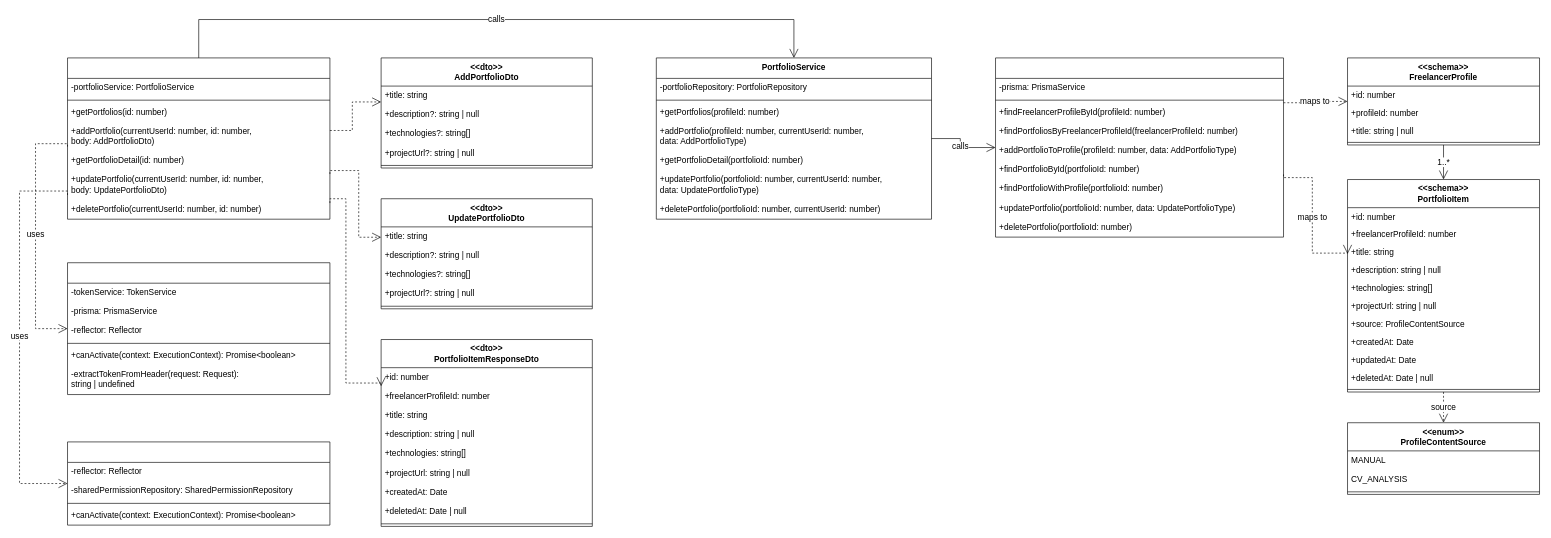
This 1551x538 diagram has some shape labels left out. Each missing label, with the box of its shape:
AuthGuard: (67, 262, 330, 395)
PermissionGuard: (67, 441, 330, 525)
PortfolioController: (67, 57, 330, 219)
PortfolioRepository: (995, 57, 1284, 237)
